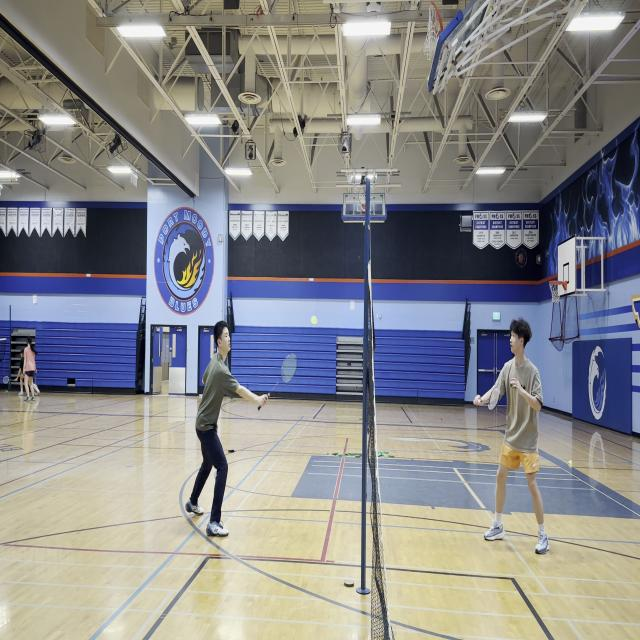shuttlecock: (311, 316, 318, 326)
